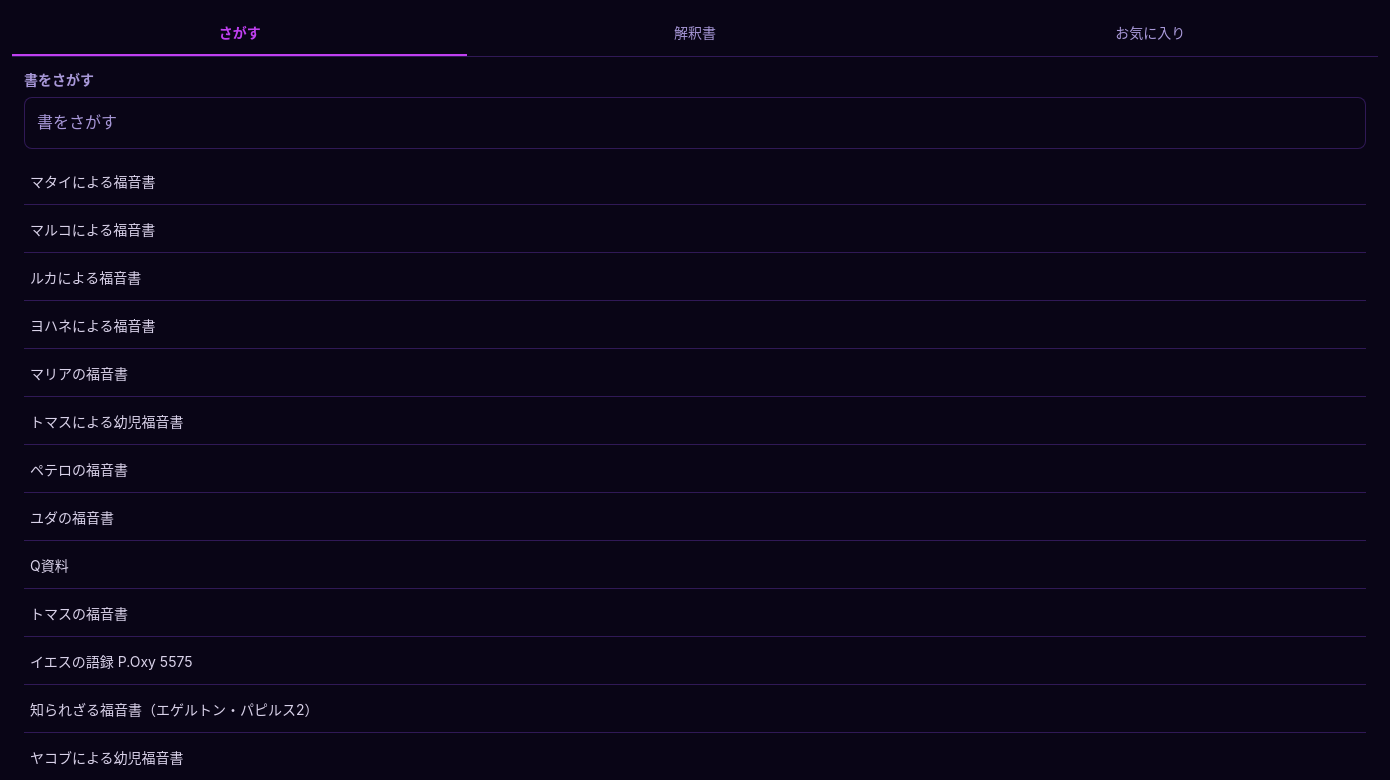
Test: CitationPanel › お気に入りが無いときは読む画面でお気に入りをつけるよう案内する
Step 1. Click the tab "お気に入り" → (1150, 34), box 923,12 -> 1378,56
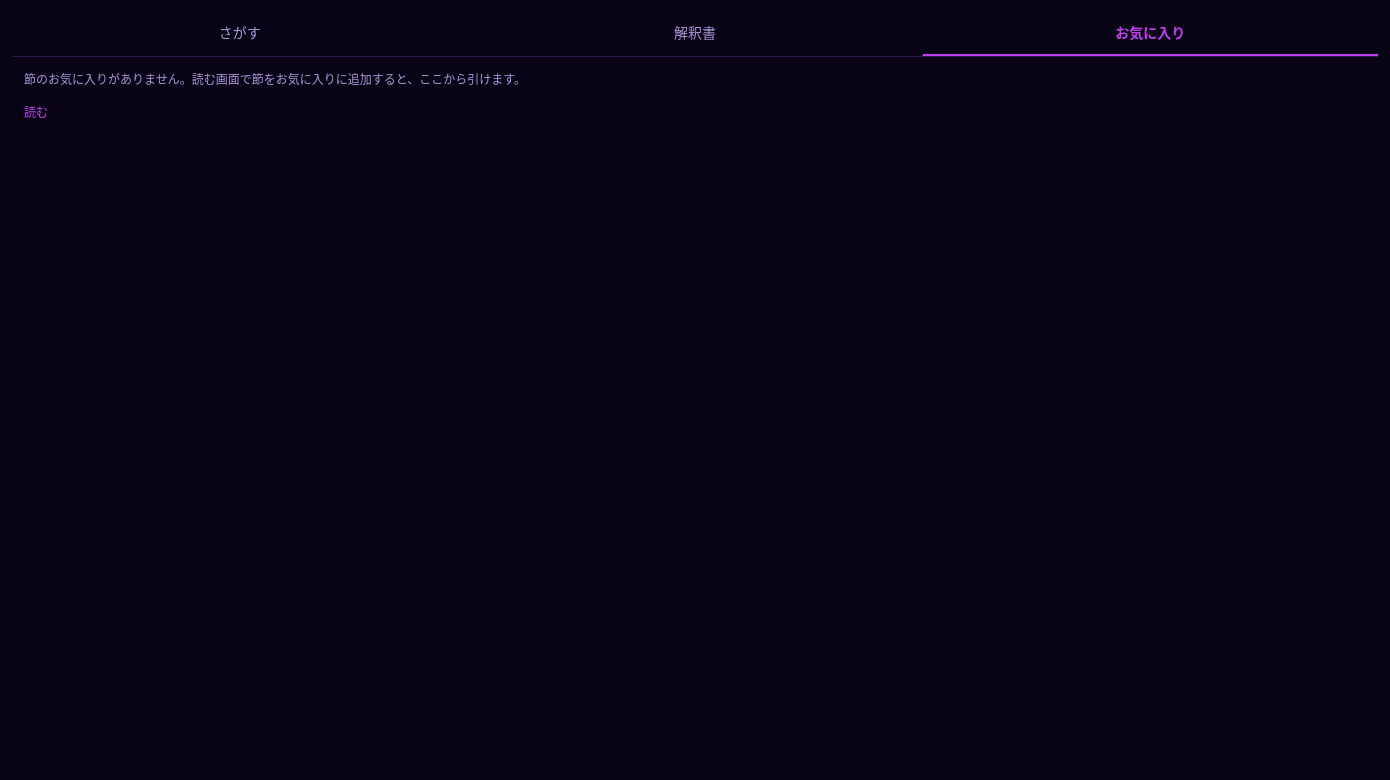
Check: the text "節のお気に入りがありません。読む画面で節をお気に入りに追加すると、ここから引けます。" is shown, box 24,72 -> 526,87
